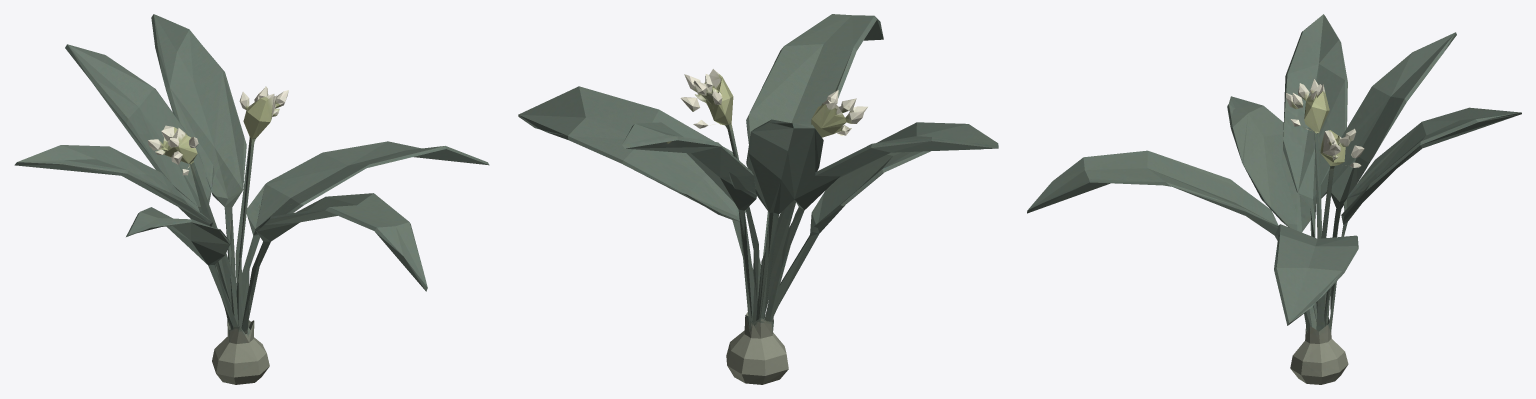
The model's file is wild_garlic.glb.
The picture shows the model from 3 angles, left to right: view 1: azimuth 30°, elevation 25°; view 2: azimuth 150°, elevation 25°; view 3: azimuth 270°, elevation 25°; orthographic projection. The views are drawn at different scales.
Parts seen in each view (by area): view 1: tripo_node_524266c4-b615-445b-865b-a112c1990911; view 2: tripo_node_524266c4-b615-445b-865b-a112c1990911; view 3: tripo_node_524266c4-b615-445b-865b-a112c1990911.
Boxes of the visible parts, x1,y1,x2,y2 form: tripo_node_524266c4-b615-445b-865b-a112c1990911: [14, 14, 489, 384]; tripo_node_524266c4-b615-445b-865b-a112c1990911: [518, 14, 998, 384]; tripo_node_524266c4-b615-445b-865b-a112c1990911: [1027, 14, 1521, 384].
Bounding box in the file's own units: 1.03 × 0.6613 × 1.
Materials: 1 (1 with a texture image).
